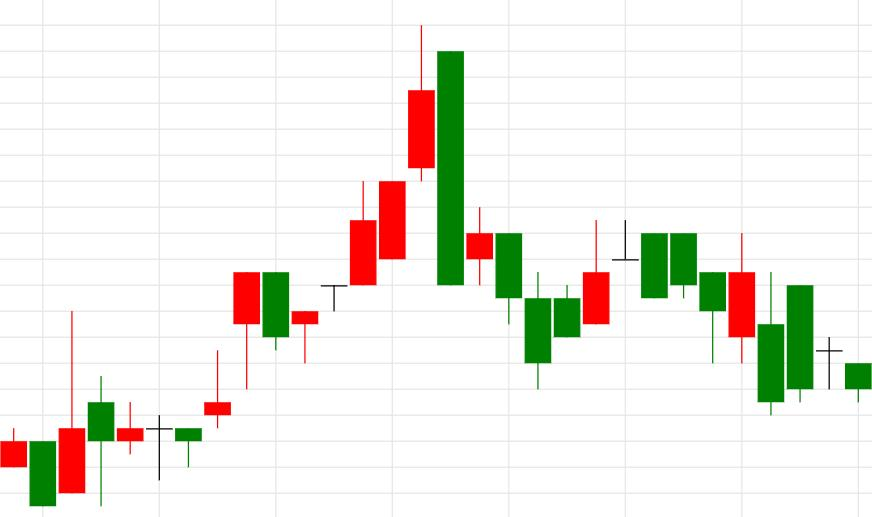hanging_man_fall: (145, 272, 260, 481)
